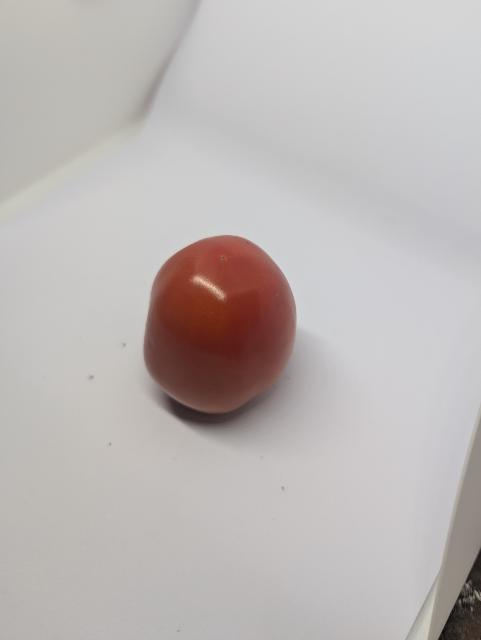red: (142, 232, 302, 419)
